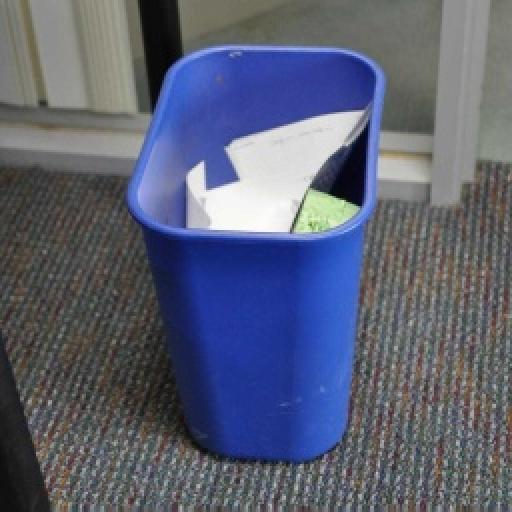trash-can: (114, 15, 396, 479)
